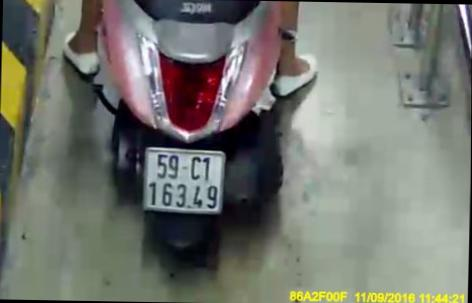LP: (141, 146, 226, 216)
